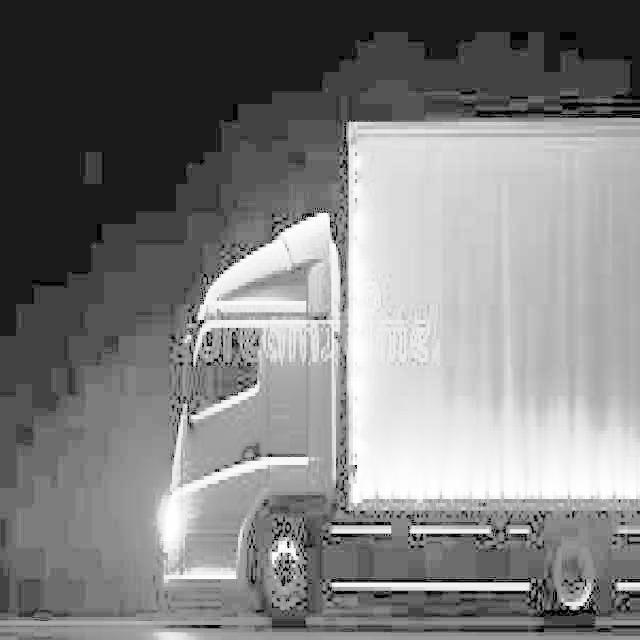Truck: (153, 115, 638, 625)
